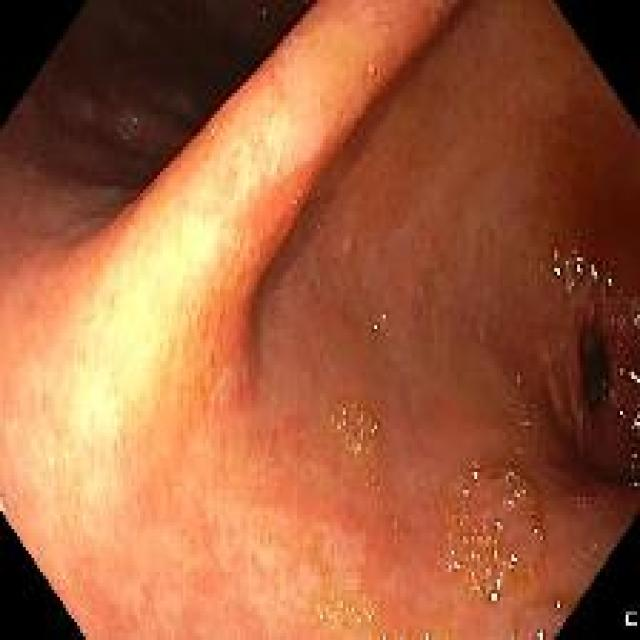bubbles: (454, 466, 544, 585), (334, 387, 395, 465), (550, 242, 586, 298), (336, 589, 380, 631), (584, 261, 618, 297), (627, 406, 639, 493), (314, 594, 335, 628), (627, 294, 639, 334), (599, 375, 611, 408), (249, 129, 263, 151), (518, 602, 535, 618), (368, 62, 380, 79), (617, 315, 628, 329), (315, 95, 326, 108), (522, 416, 530, 433)
contrast: (41, 6, 326, 192), (573, 321, 611, 404)
specularity: (371, 308, 398, 345), (615, 296, 635, 330), (619, 366, 638, 391), (531, 625, 549, 637), (496, 569, 506, 590), (631, 411, 639, 433), (453, 559, 462, 574), (575, 255, 582, 273), (555, 594, 562, 610), (590, 265, 597, 280), (491, 590, 499, 603), (604, 274, 612, 287), (564, 282, 573, 293), (553, 265, 561, 277), (471, 472, 481, 479), (510, 555, 517, 565), (632, 480, 639, 490), (463, 486, 468, 499), (423, 631, 431, 639), (617, 408, 624, 417), (631, 451, 637, 461), (253, 132, 259, 142), (492, 521, 499, 529), (510, 631, 517, 639), (373, 322, 379, 331), (514, 489, 519, 498), (367, 612, 372, 621), (380, 633, 388, 638)
